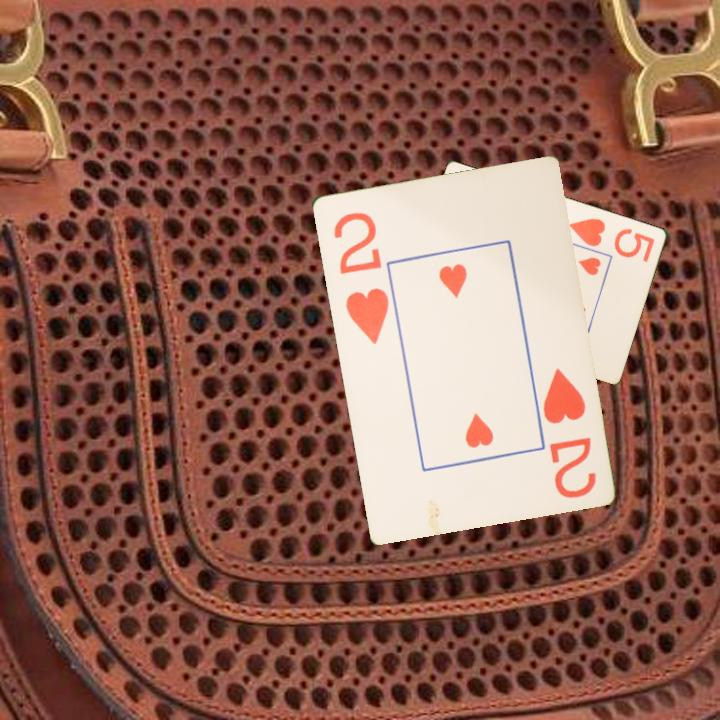2h: (329, 208, 392, 347), (538, 364, 599, 501)
5h: (566, 214, 658, 265)
